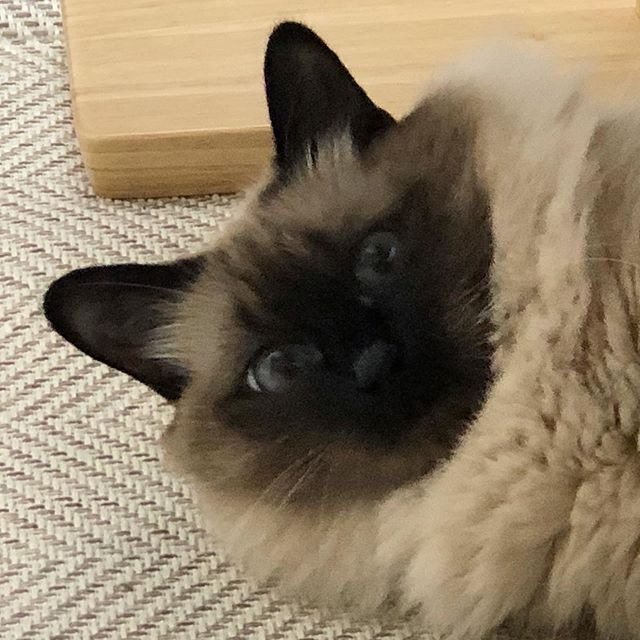cat: (47, 16, 509, 477)
